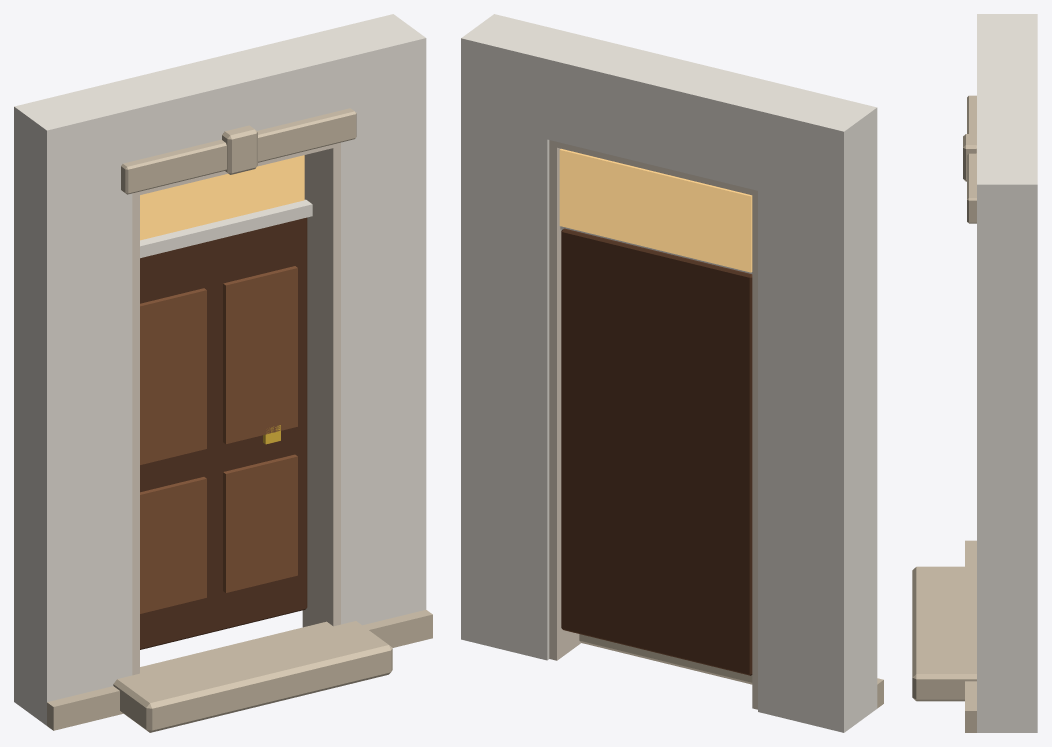
File: door.glb
3 renders of one model, left to right at view 1: azimuth 30°, elevation 25°; view 2: azimuth 150°, elevation 25°; view 3: azimuth 270°, elevation 25°, orthographic. The views are drawn at different scales.
Parts seen in each view (by area): view 1: door; view 2: door; view 3: door.
Boxes of the visible parts, x1,y1,x2,y2 form: door: [14, 14, 432, 732]; door: [461, 14, 883, 732]; door: [912, 14, 1037, 732].
Size of the model in its own units: 2 by 3 by 0.62.
3 materials, 3 textured.
